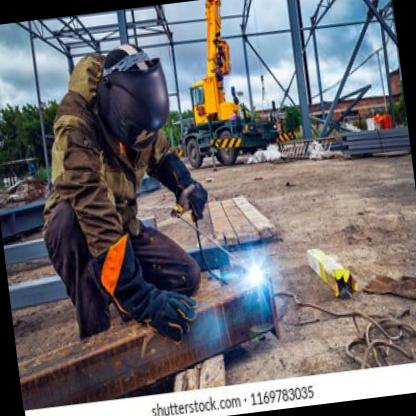Gloves: (88, 226, 202, 353), (155, 149, 211, 227)
